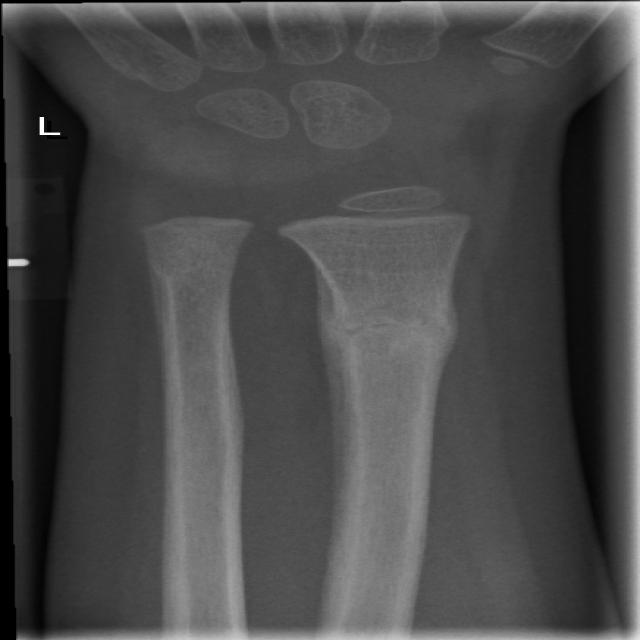radius fracture: (291, 293, 500, 392)
